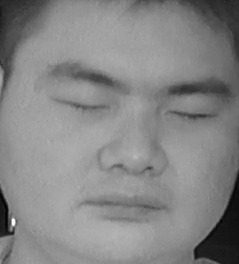blink: (60, 89, 110, 122), (171, 100, 216, 131)
mouth: (91, 183, 170, 230)
